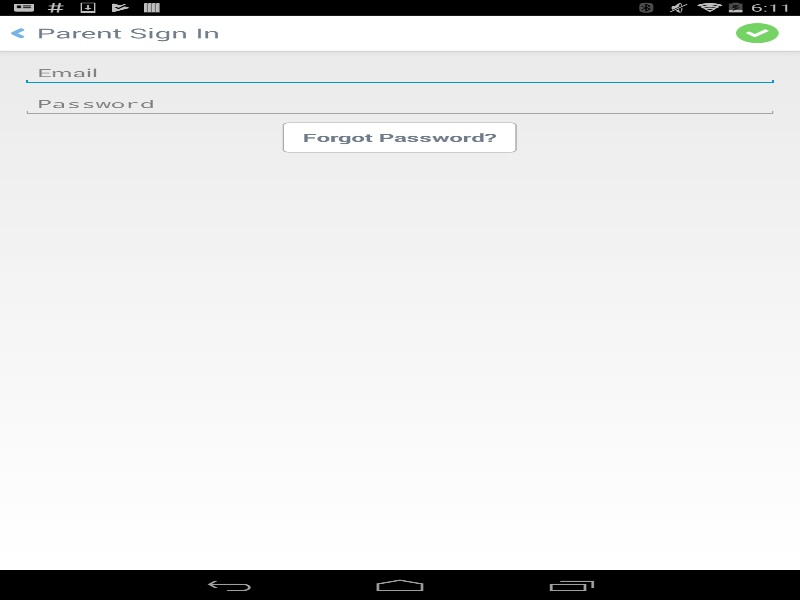Button: (282, 122, 516, 152)
Input: (21, 60, 778, 85), (21, 91, 778, 116)
